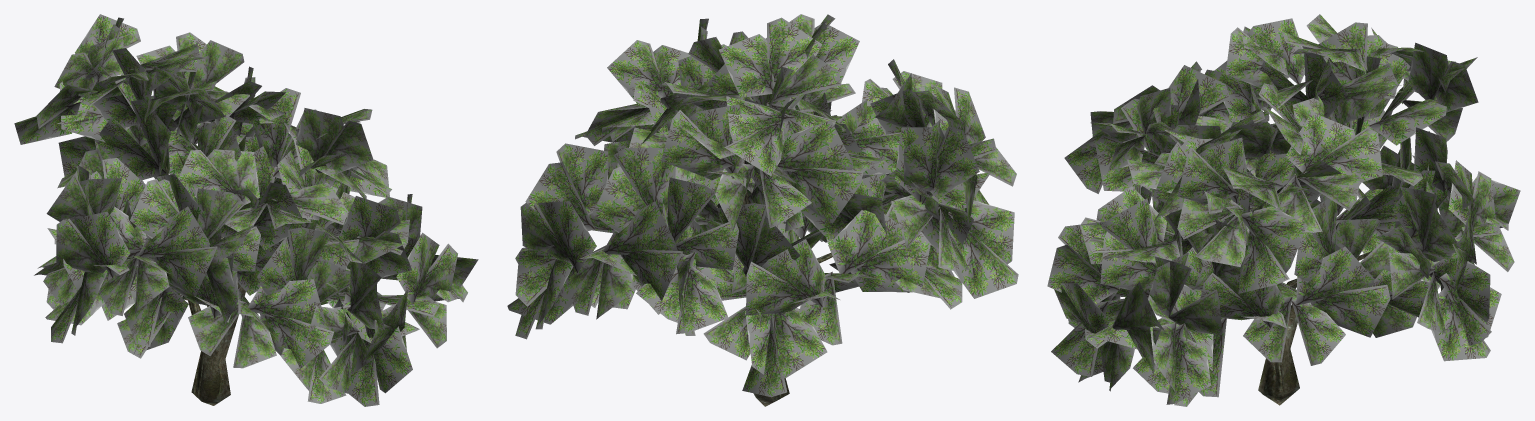
File: thin_leave_tree_big_bright_green_lod1.fbx
The picture shows the model from 3 angles, left to right: view 1: azimuth 30°, elevation 25°; view 2: azimuth 150°, elevation 25°; view 3: azimuth 270°, elevation 25°; orthographic projection. The views are drawn at different scales.
Visible parts, largest first — view 1: leaf_thin_leave_tree, trunk_thin_leave_tree; view 2: leaf_thin_leave_tree; view 3: leaf_thin_leave_tree, trunk_thin_leave_tree.
Boxes of the visible parts, x1,y1,x2,y2 form: leaf_thin_leave_tree: (14, 14, 478, 406); trunk_thin_leave_tree: (164, 149, 245, 405); leaf_thin_leave_tree: (507, 14, 1018, 397); leaf_thin_leave_tree: (1047, 14, 1520, 406); trunk_thin_leave_tree: (1258, 203, 1418, 405).
Bounding box in the file's own units: 3.72 × 3.15 × 3.68.
Materials: 2 (2 with a texture image).
